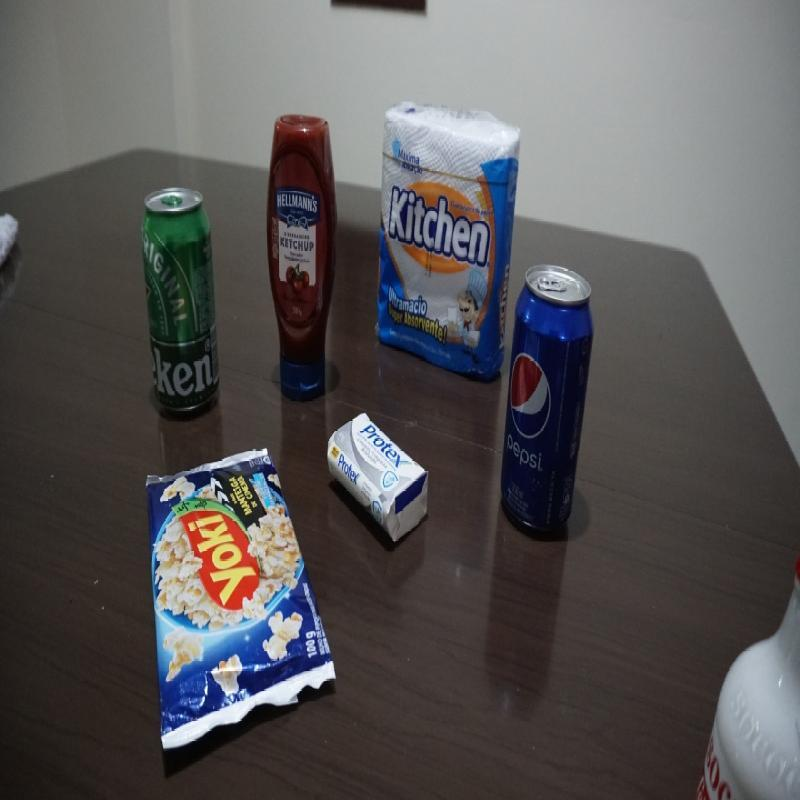Beer can: (140, 188, 221, 420)
Coconut Milk: (695, 550, 799, 798)
Ketchup: (267, 110, 339, 406)
Napkin: (372, 98, 524, 379)
Popcorn: (142, 445, 336, 756)
Soap: (326, 406, 432, 545)
Soda can: (498, 261, 595, 539)
